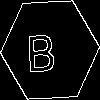B: (25, 25, 57, 72)
